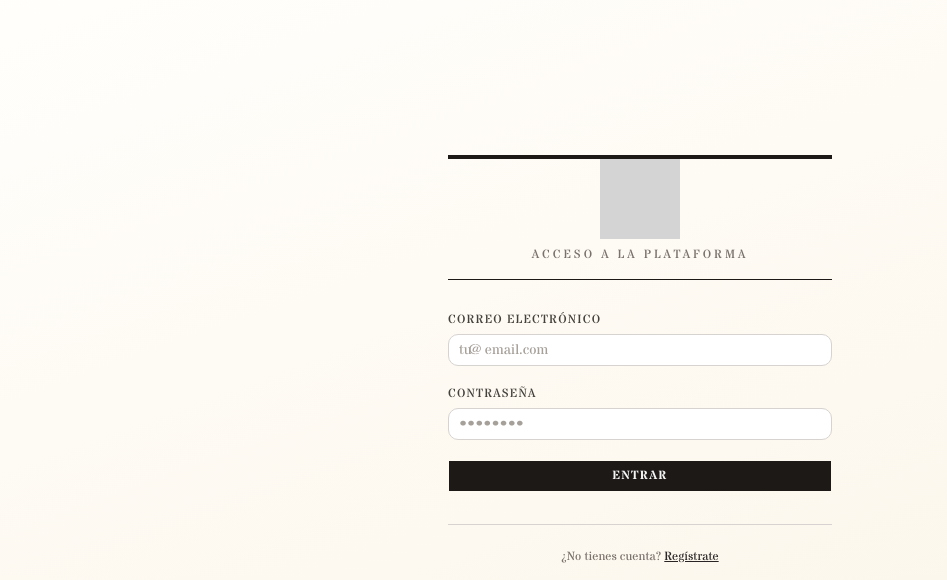
Test: Login › disables button and shows loading text during submission
This screenshot has width=947, height=580.
Type "user@test.com" into the field with placeholder "tu@email.com" at [640, 350], box [448,334,832,366]
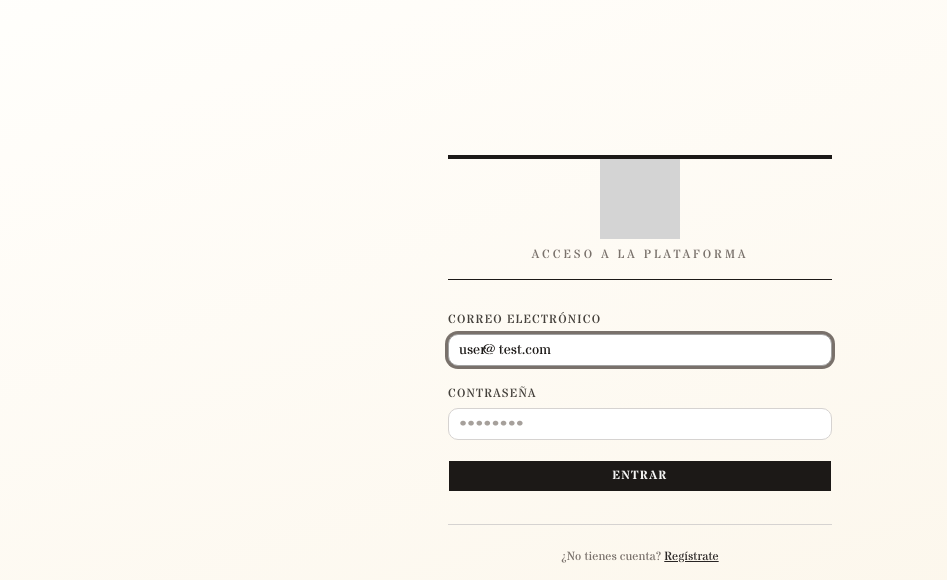
Type "pass123" into the password field with placeholder "••••••••" at [640, 424], box [448,408,832,440]
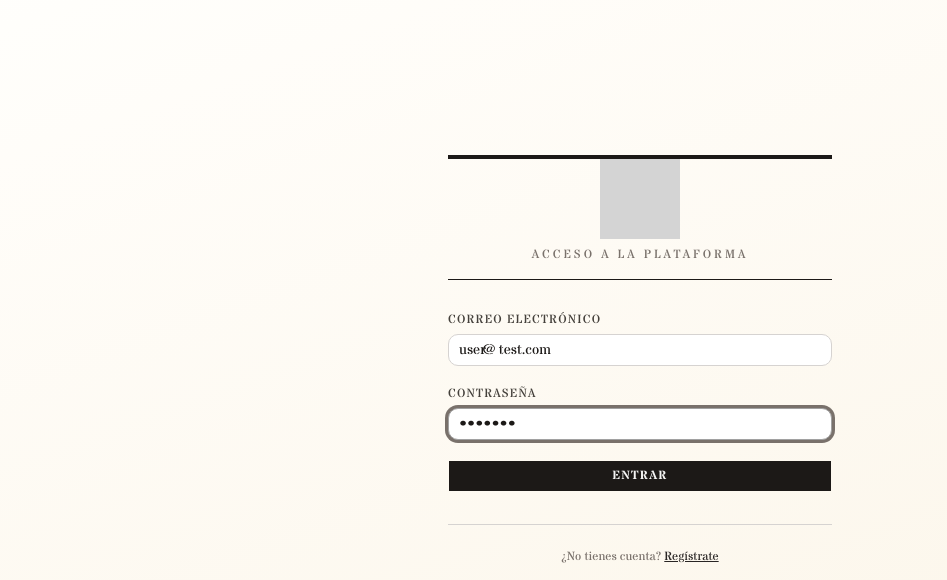
Click the button "Entrar" at [640, 476], box [448,460,832,492]
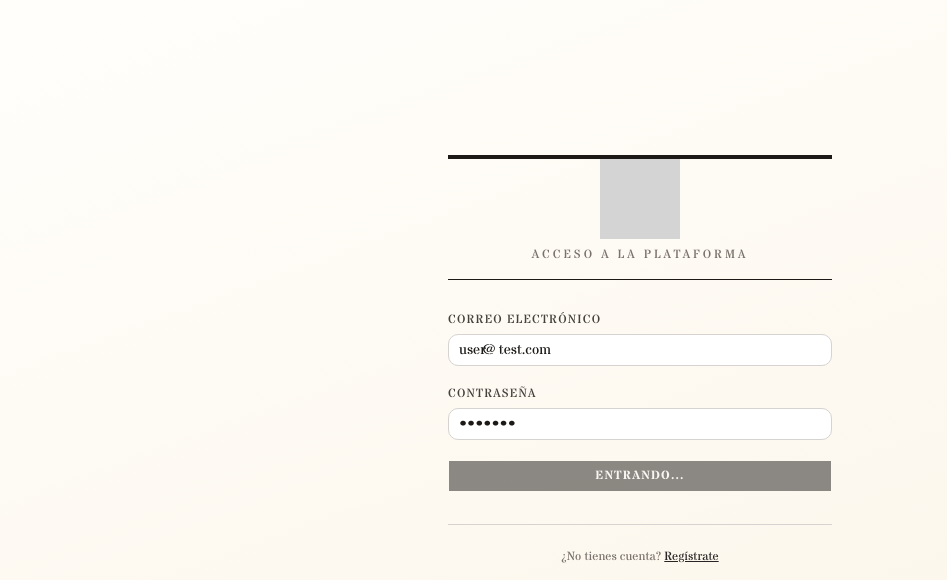
Result: the button "Entrando..." is disabled at [448,460,832,492]
